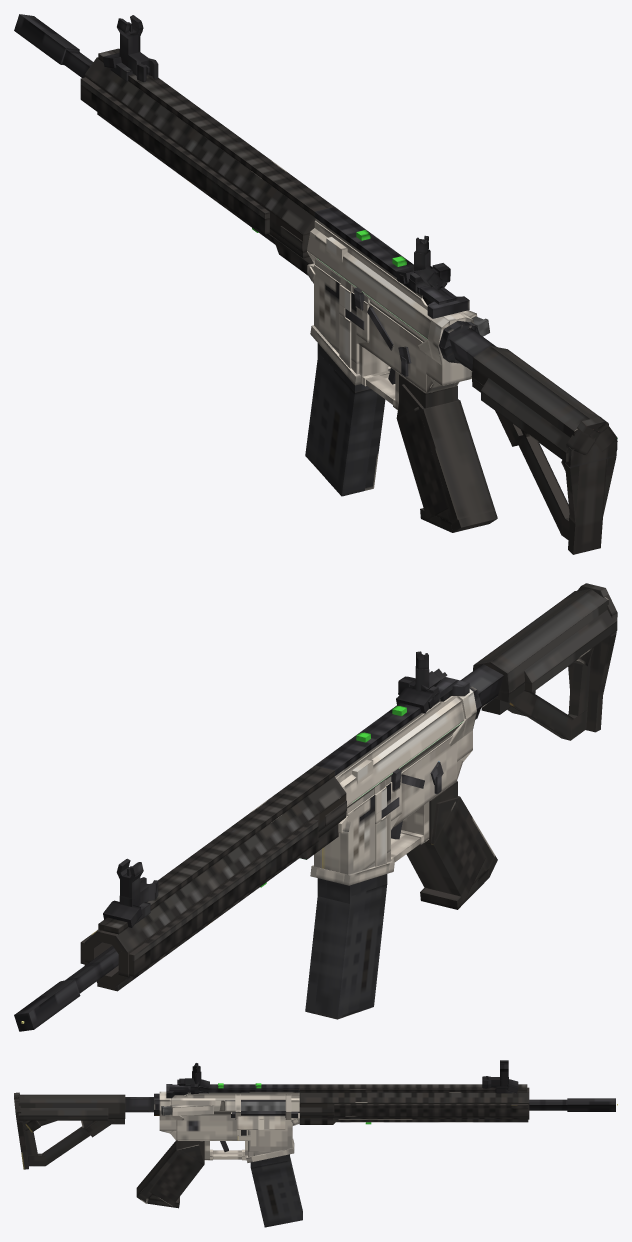
Rendered from star15.fbx.
3 renders of one model, top to bottom at view 1: azimuth 30°, elevation 25°; view 2: azimuth 150°, elevation 25°; view 3: azimuth 270°, elevation 25°, orthographic. The views are drawn at different scales.
Parts seen in each view (by area): view 1: gun, receiver, magazine, frontsight; view 2: gun, receiver, magazine, rearsightbase, frontsight; view 3: gun, receiver, magazine, bolt.
Part boxes in pixels (x1=…): gun: x1=14, y1=14, x2=617, y2=554; receiver: x1=307, y1=218, x2=477, y2=410; magazine: x1=305, y1=343, x2=385, y2=496; frontsight: x1=117, y1=15, x2=143, y2=66; gun: x1=14, y1=583, x2=617, y2=1031; receiver: x1=310, y1=689, x2=476, y2=885; magazine: x1=305, y1=874, x2=387, y2=1019; rearsightbase: x1=396, y1=676, x2=439, y2=713; frontsight: x1=116, y1=858, x2=143, y2=906; gun: x1=14, y1=1079, x2=615, y2=1208; receiver: x1=159, y1=1091, x2=299, y2=1162; magazine: x1=250, y1=1154, x2=302, y2=1227; bolt: x1=241, y1=1101, x2=285, y2=1110.
Bounding box in the file's own units: 42.3 × 198 × 673.
Materials: 1 (1 with a texture image).
